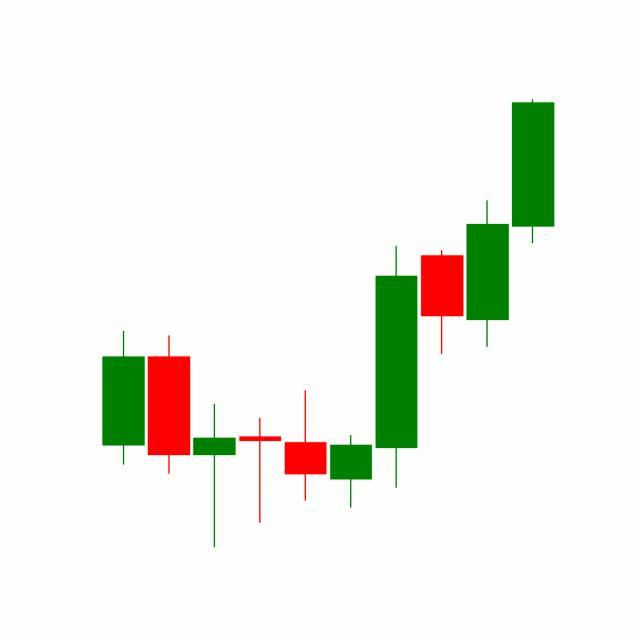Hikkake Pattern: (283, 198, 512, 513)
